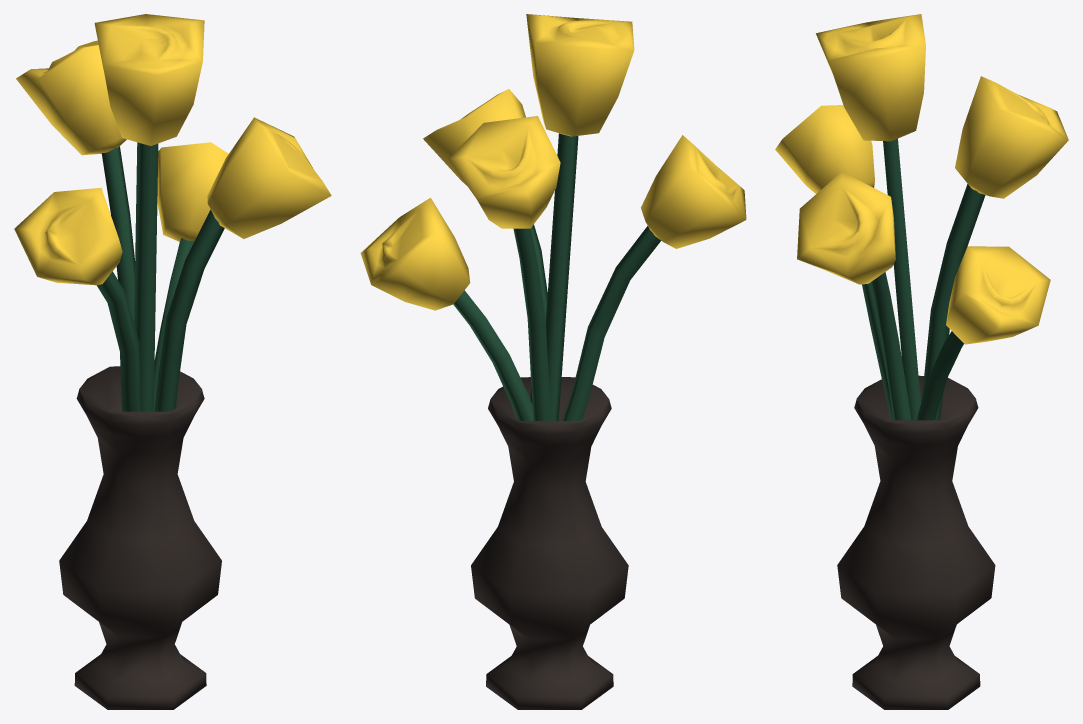
The model's file is FloorVase.FBX.
3 renders of one model, left to right at view 1: azimuth 30°, elevation 25°; view 2: azimuth 150°, elevation 25°; view 3: azimuth 270°, elevation 25°, orthographic. The views are drawn at different scales.
Visible parts, largest first — view 1: Flowers_vase; view 2: Flowers_vase; view 3: Flowers_vase.
Part boxes in pixels (bbox=[...]): Flowers_vase: bbox=[14, 14, 331, 709]; Flowers_vase: bbox=[360, 14, 746, 709]; Flowers_vase: bbox=[775, 14, 1068, 709].
Size of the model in its own units: 27.56 by 57.51 by 23.46.
